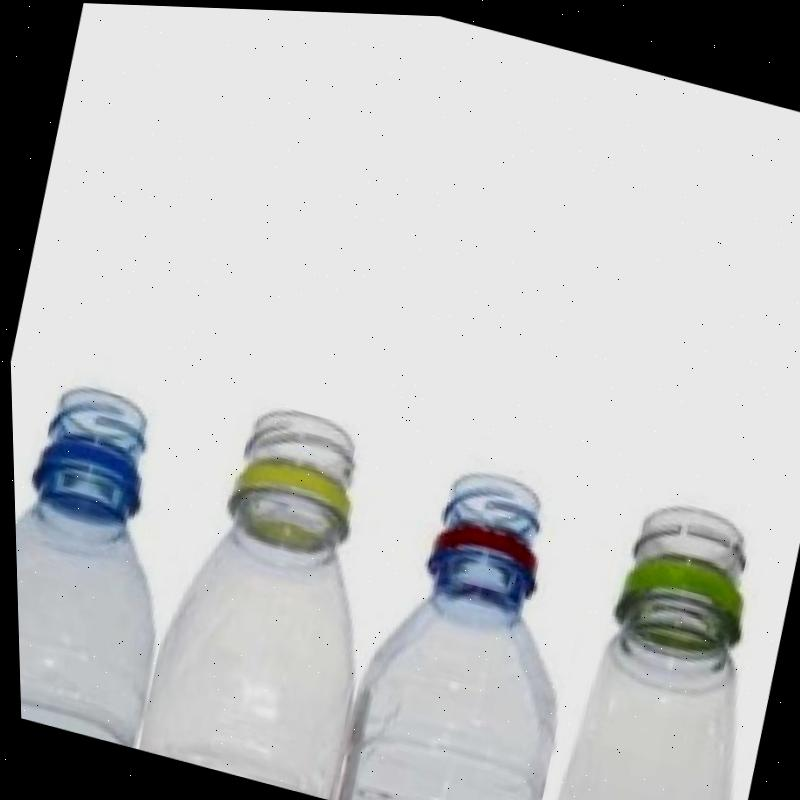botella: (123, 385, 411, 800), (317, 441, 607, 800), (522, 476, 800, 800), (8, 360, 210, 750)
